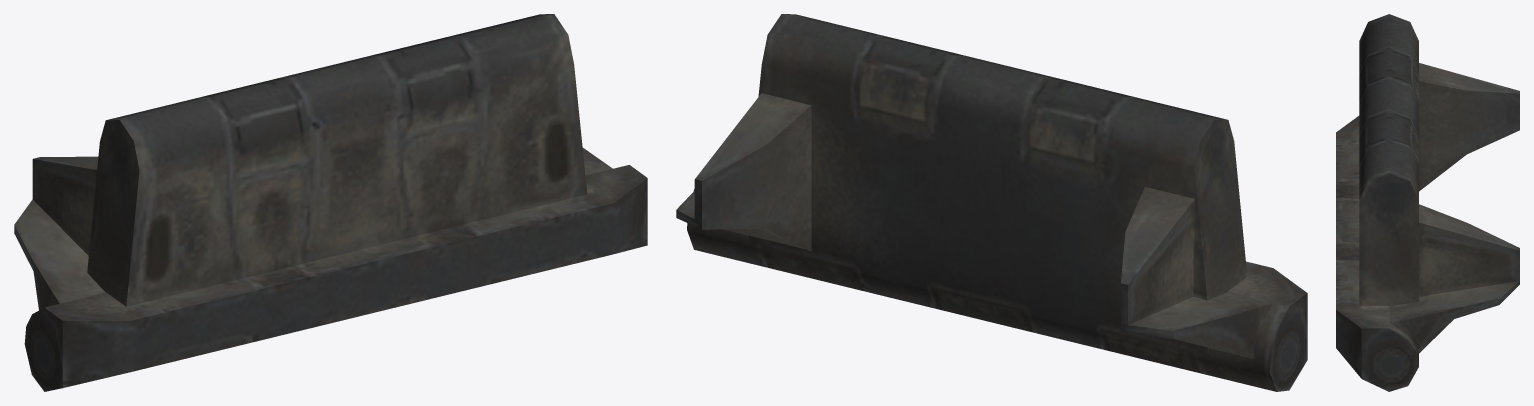
The model's file is C_D_P_Track.glb.
The picture shows the model from 3 angles, left to right: view 1: azimuth 30°, elevation 25°; view 2: azimuth 150°, elevation 25°; view 3: azimuth 270°, elevation 25°; orthographic projection. The views are drawn at different scales.
Visible parts, largest first — view 1: set_0_group_0; view 2: set_0_group_0; view 3: set_0_group_0.
Boxes of the visible parts, x1,y1,x2,y2 form: set_0_group_0: [14, 14, 647, 391]; set_0_group_0: [676, 14, 1307, 391]; set_0_group_0: [1336, 14, 1519, 391].
Bounding box in the file's own units: 0.3957 × 0.1639 × 0.1431.
1 material, 1 textured.
